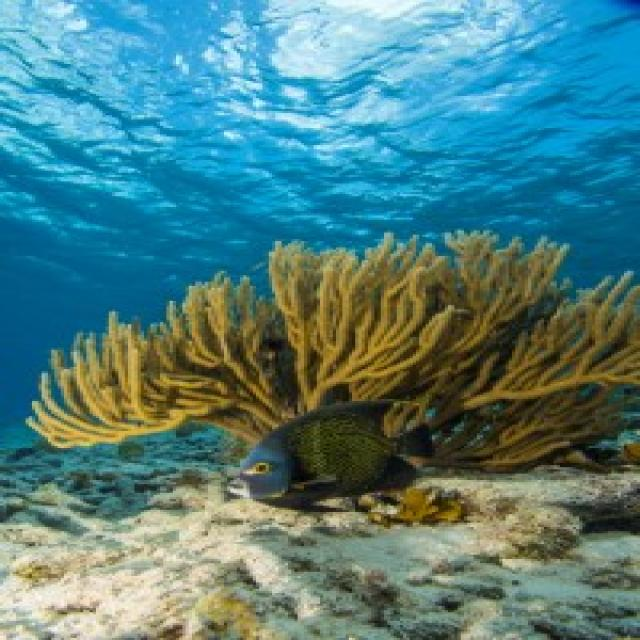Coral: (23, 229, 640, 474)
